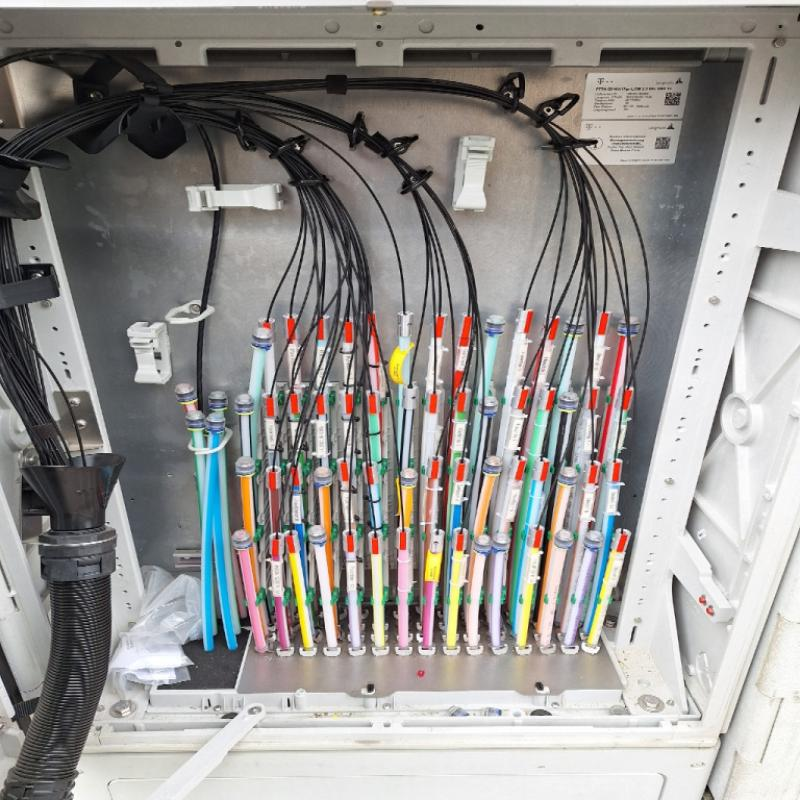NT-Gehause: (3, 2, 800, 800)
